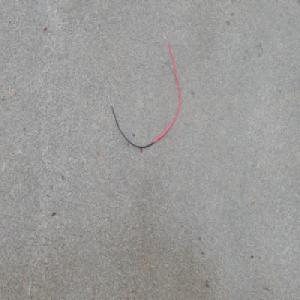Wire: (105, 31, 181, 148)
